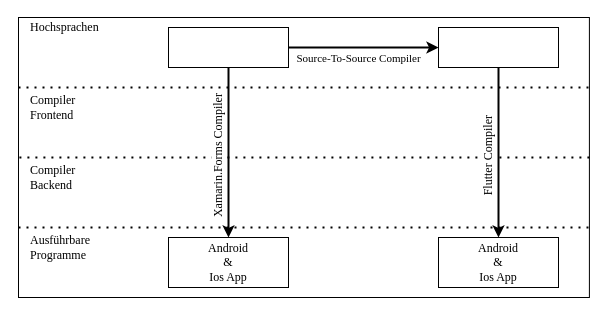
The diagram is 608 pixels wide and 315 high, and some of its shapes have lost their labels. Each missing label, with the box of its shape:
Flutter Quelltext: (438, 26, 558, 68)
Xamarin.Forms Quelltext: (168, 26, 288, 68)
